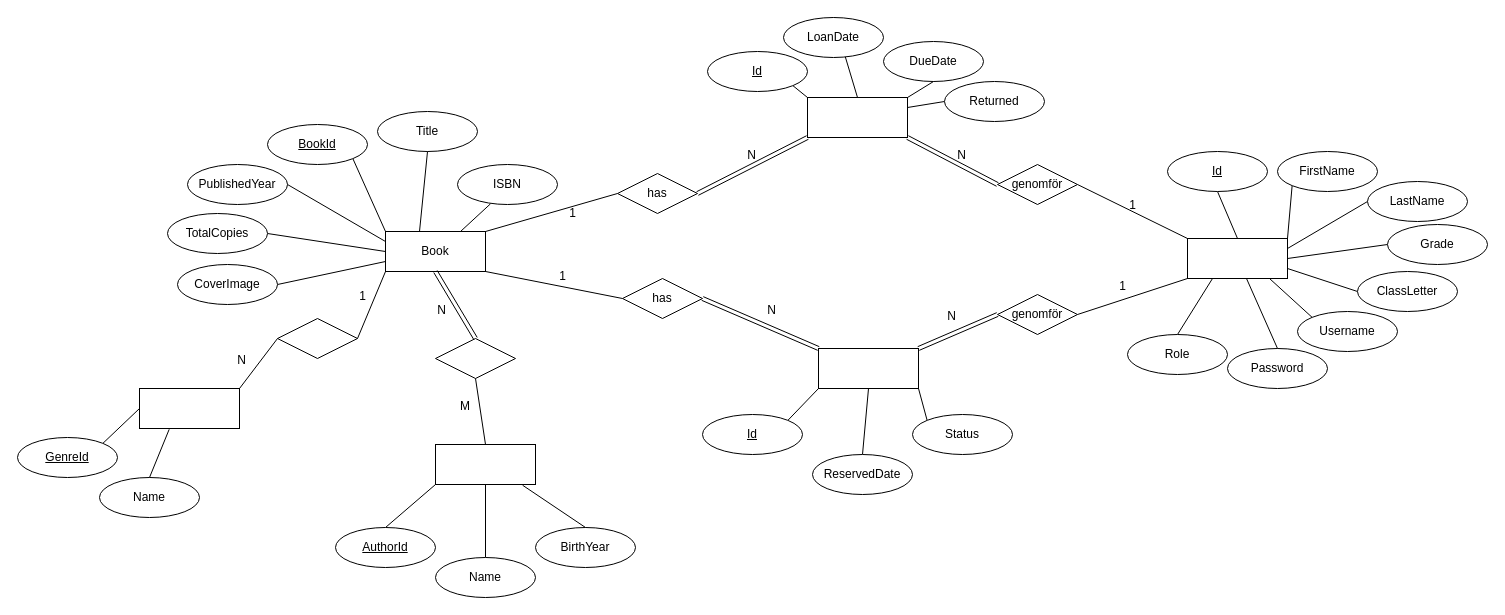
Some shapes in this 1505 by 615 pixel diagram are drawn without their labels. Here are the shapes that lost their labels. From the top down, the box of each, then its label:
(806, 96, 908, 138): Loan
(1186, 238, 1288, 278): User
(276, 318, 358, 358): is
(434, 338, 516, 378): written by
(818, 348, 918, 388): Reservation
(138, 388, 240, 428): Genre
(434, 444, 536, 484): Author
